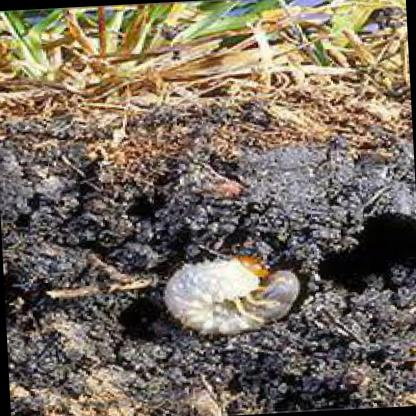root grubs: (155, 259, 299, 335)
